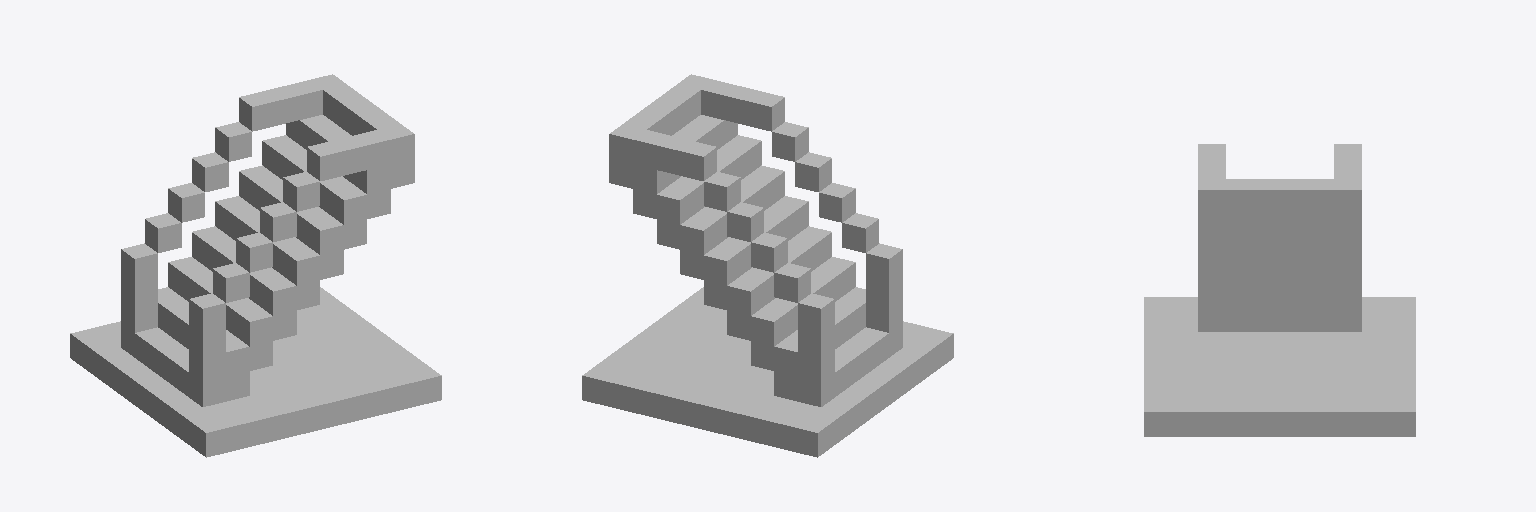
File: stairs.obj
3 renders of one model, left to right at view 1: azimuth 30°, elevation 25°; view 2: azimuth 150°, elevation 25°; view 3: azimuth 270°, elevation 25°, orthographic.
Visible parts, largest first — view 1: object 1; view 2: object 1; view 3: object 1.
Part boxes in pixels (x1,y1,x2,y2): object 1: (70, 74, 441, 457); object 1: (582, 74, 953, 457); object 1: (1144, 144, 1415, 436).
Bounding box in the file's own units: 1 × 1 × 1.